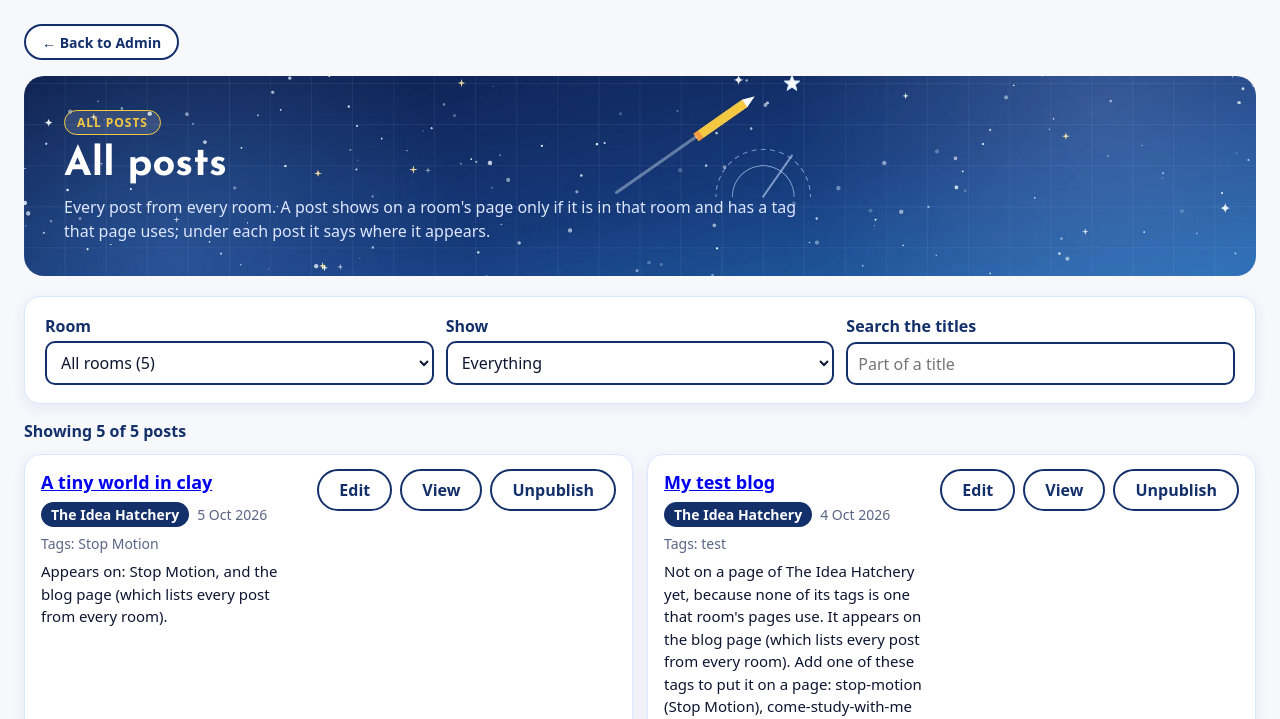
the filters › narrows to posts with no room
Expected: the link "My test blog" is shown, [664,470,775,494]
Select "No room (1)" in the dropdown labelled "Room" at (239, 363), box [45,341,434,385]
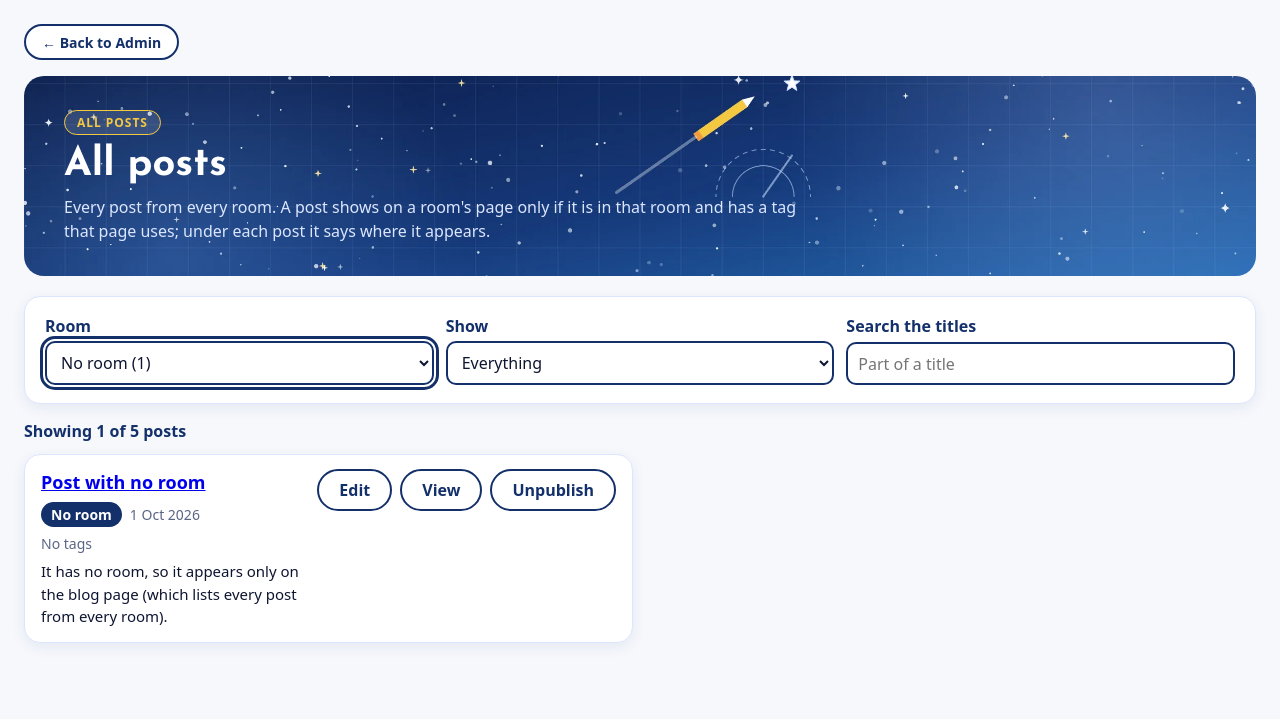
Expected: the link "Post with no room" is shown, [41,470,206,494]
Expected: the message reads "Showing 1 of 5 posts", [24,420,186,442]
